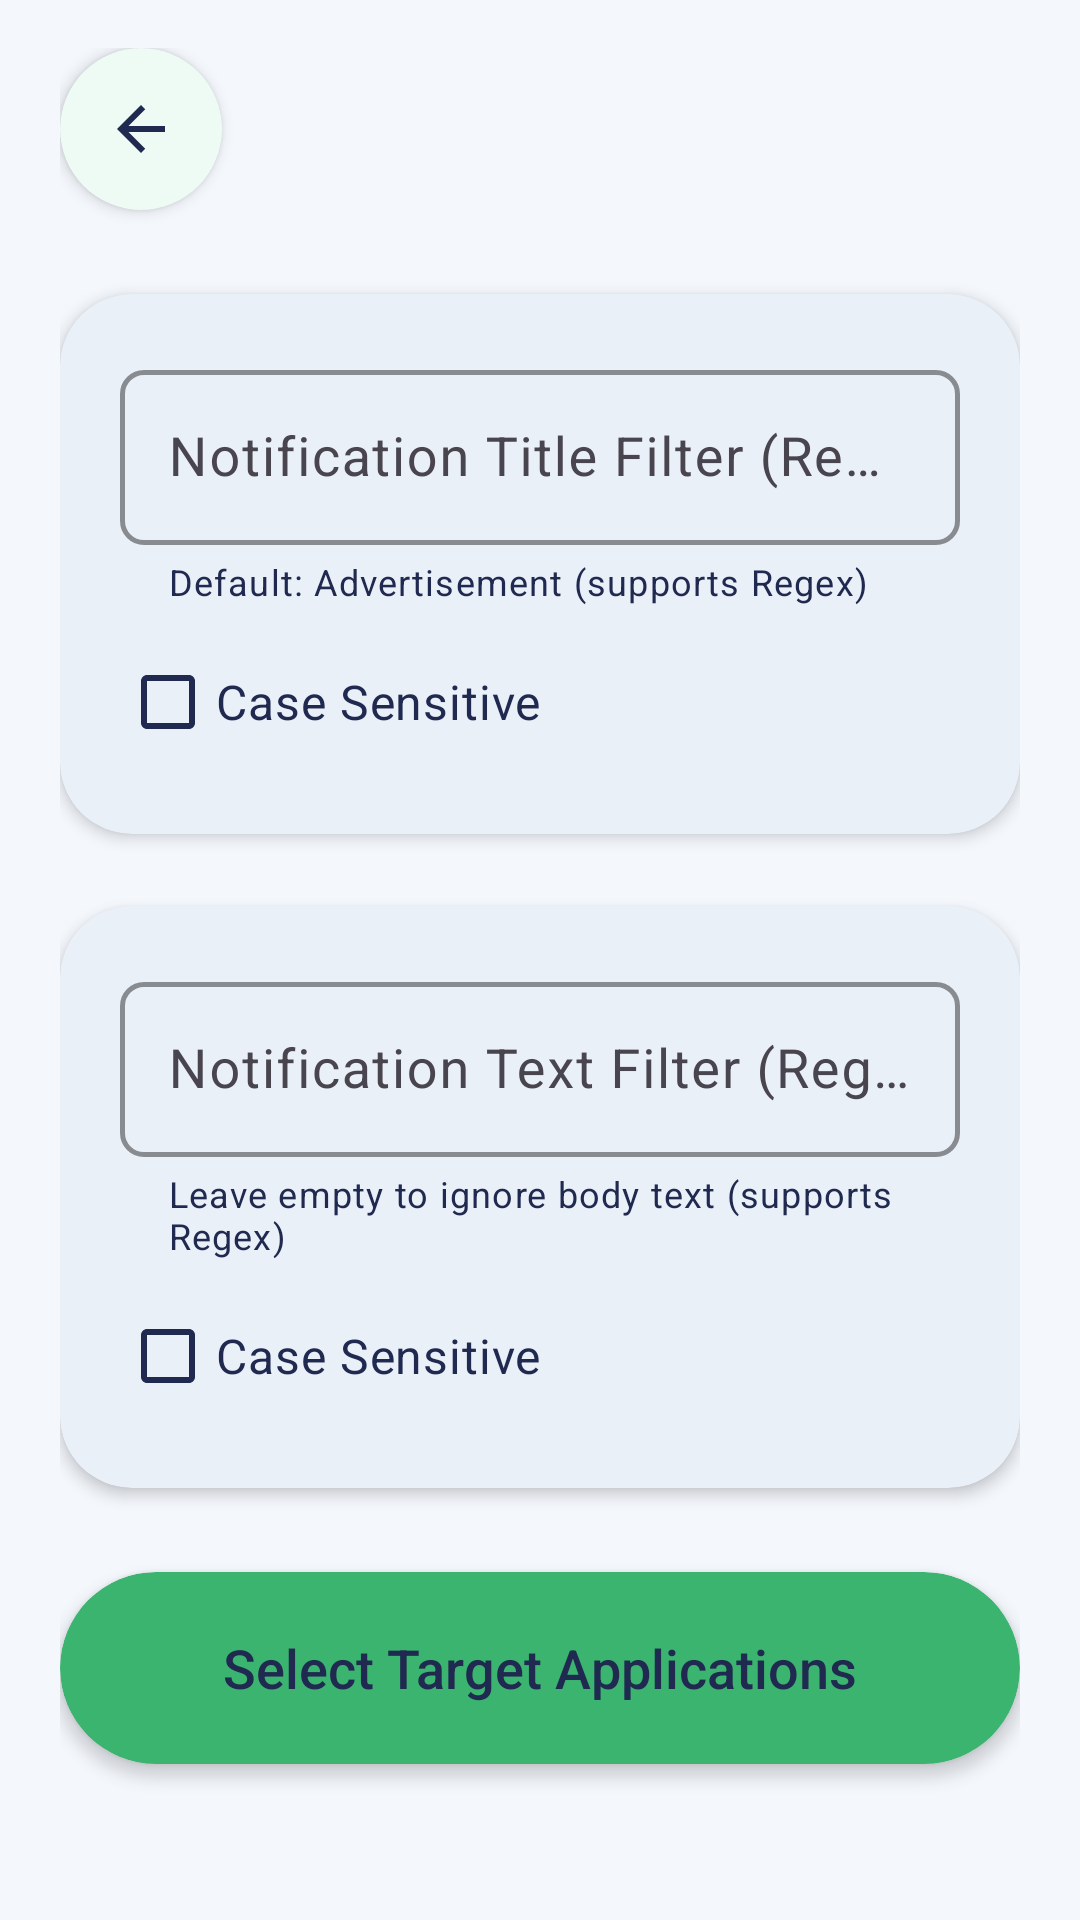

Where icons sit on this 1080 x 1920 app screen, as box=[x1, y1, x2, y2]:
arrow back: box=[117, 105, 165, 153]
